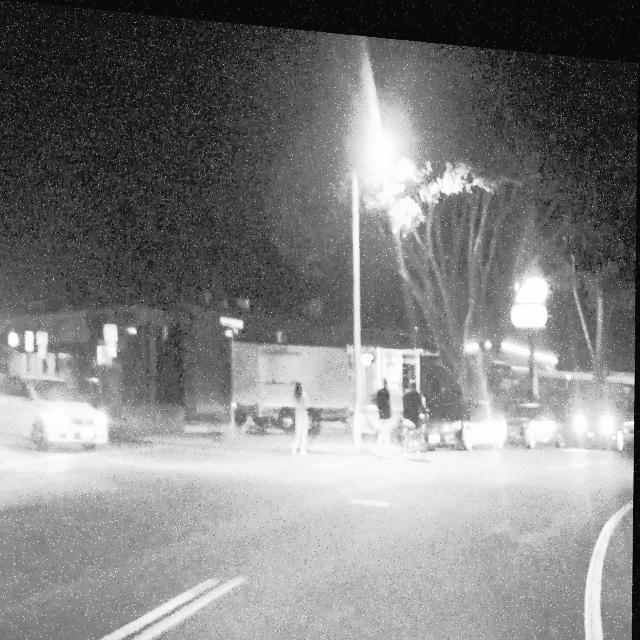Car: (1, 372, 111, 456)
Truck: (230, 332, 354, 430)
